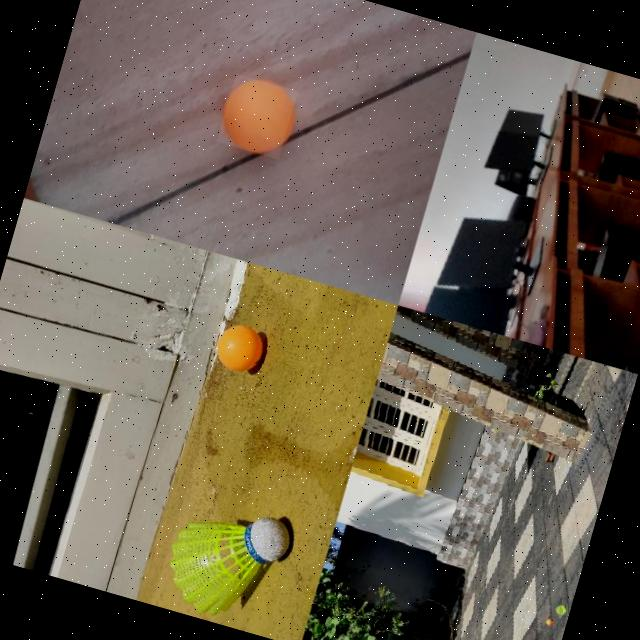ping-pong-ball: (215, 72, 298, 159), (209, 320, 266, 377), (544, 620, 550, 626)
